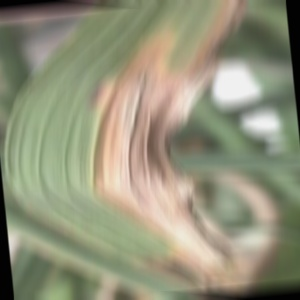Leaf_Blast: (32, 7, 189, 265)
